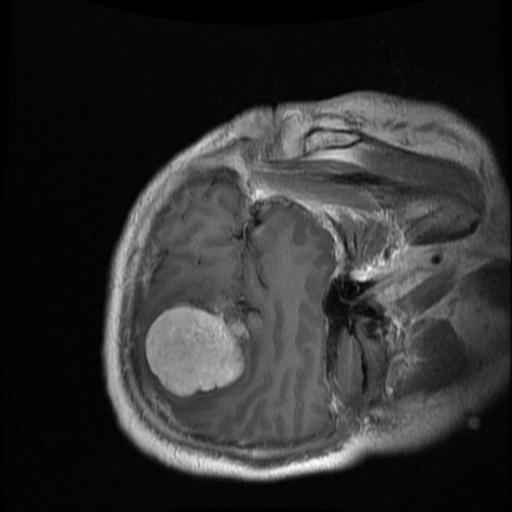meningioma: (144, 305, 248, 397)
